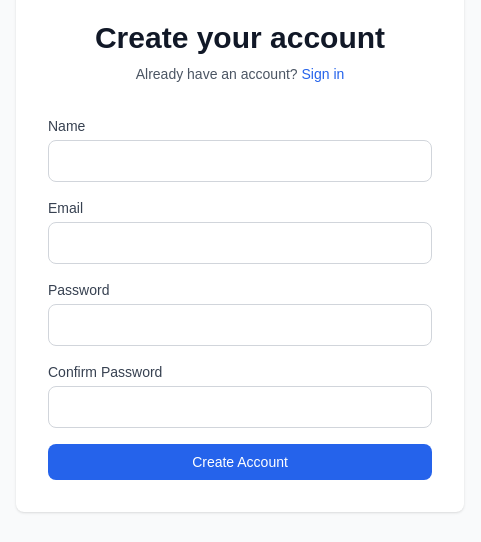
Authentication › Register › should show error when passwords do not match
Type "Test User" into the field with id "name" at (240, 161), box x1=48 y1=140 x2=432 y2=182
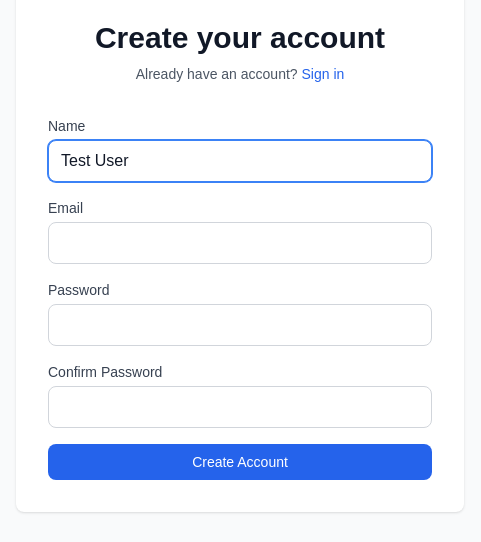
Type "test@example.com" into the field with id "email" at (240, 243), box x1=48 y1=222 x2=432 y2=264
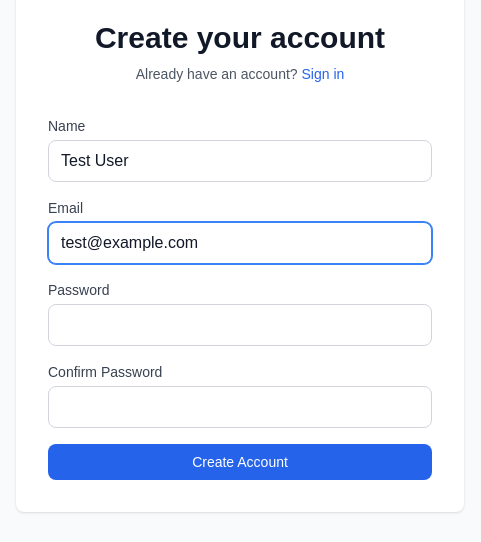
Type "password123" into the password field labelled "Password" at (240, 325), box x1=48 y1=304 x2=432 y2=346
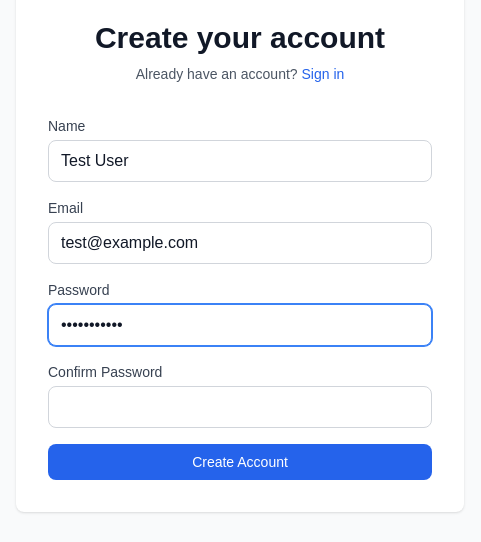
Type "differentpassword" into the password field with id "confirmPassword" at (240, 407), box x1=48 y1=386 x2=432 y2=428
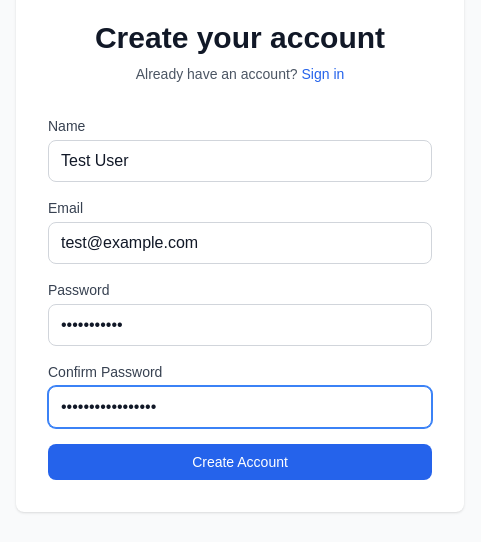
Click the submit button at (240, 462), box x1=48 y1=444 x2=432 y2=480
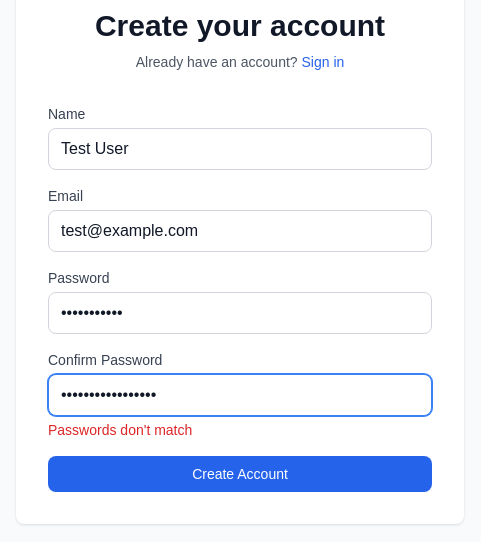
Check: the text "Passwords don't match" is shown, box x1=48 y1=422 x2=192 y2=438
